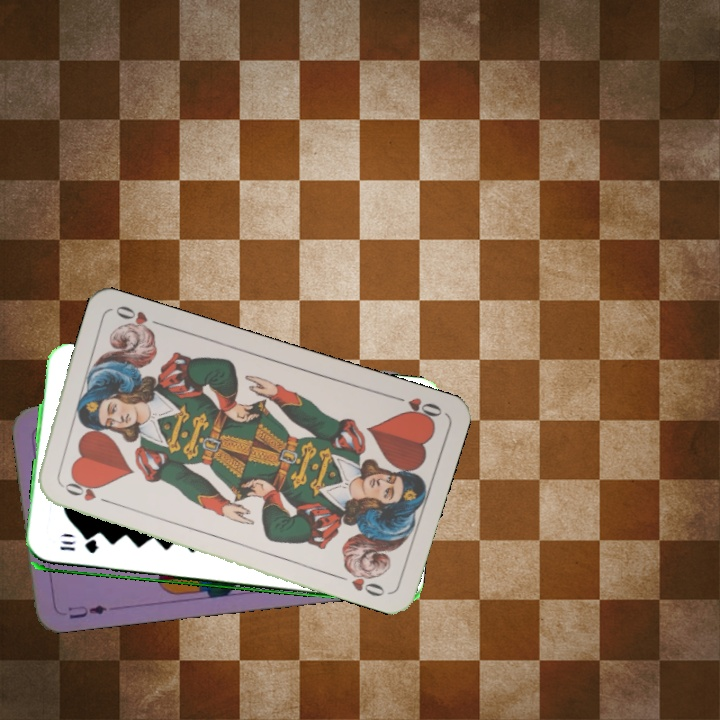EU: (64, 601, 109, 621)
G10: (56, 537, 101, 556)
HO: (388, 391, 445, 425), (57, 478, 114, 507)
